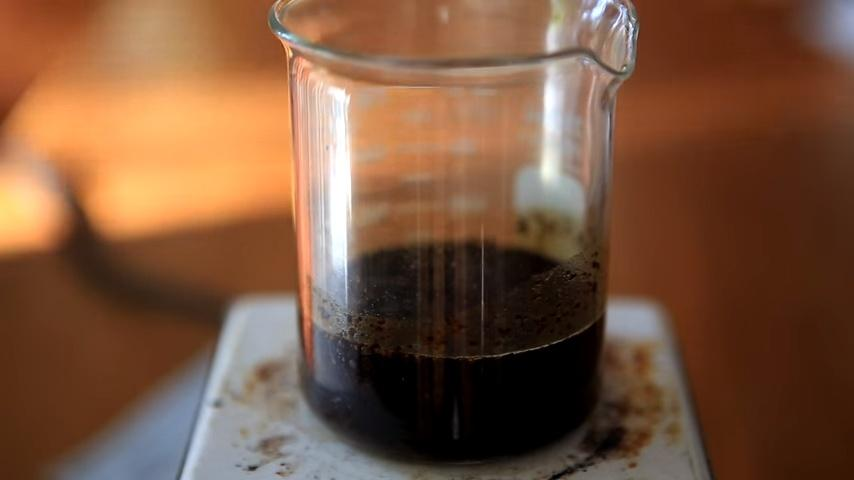Beaker: (254, 7, 629, 463)
